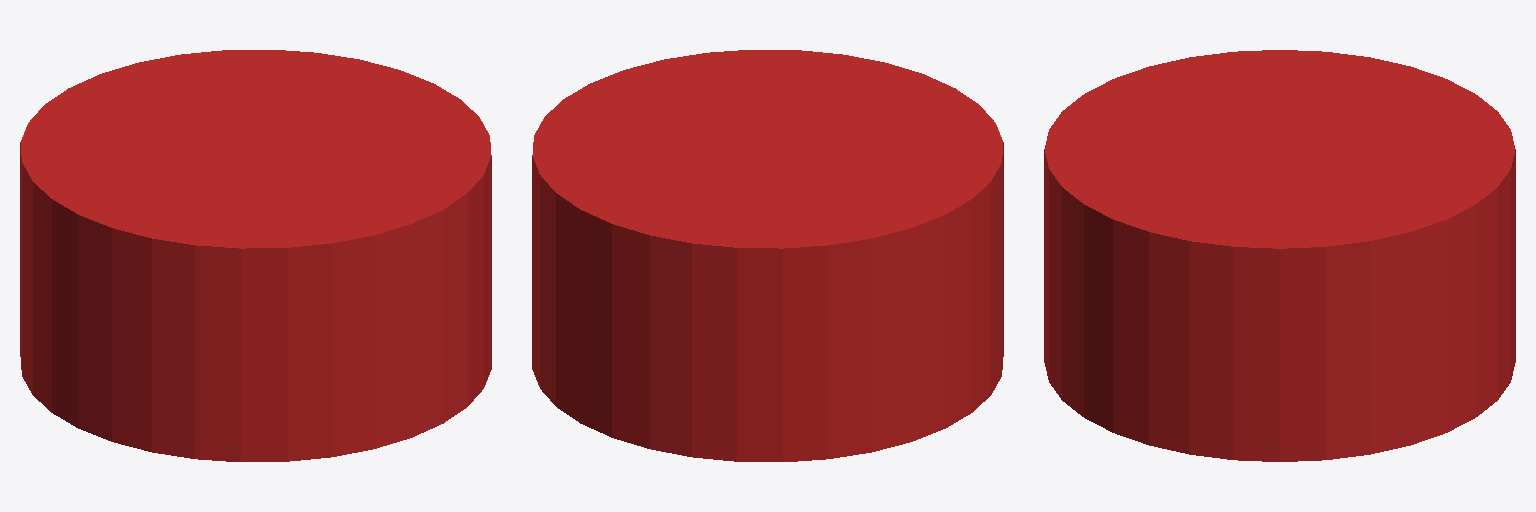
The robot description file, URDF, robot "wheel_only":
<?xml version='1.0' encoding='utf-8'?>
<robot name="wheel_only">
    <link name="wheel">
        <inertial>
            <origin xyz="0.0 1.7347249999999997e-17 -0.016" rpy="0 0 0" />
            <mass value="0.001" />
            <inertia ixx="0.0" ixy="0.0" ixz="0.0" iyy="0.0" iyz="0.0" izz="0.001" />
        </inertial>
        <visual>
            <origin xyz="-0.13 0.1 -0.08" rpy="1.5708 1.5708 0" />
            <geometry>
                <mesh filename="package://assets/wheel.stl" scale="4 4 4" />
            </geometry>
            <material name="wheel_material">
                <color rgba="0.262745 0.282353 0.301961 1.0" />
            </material>
        </visual>
        <collision>
            <origin xyz="-0.13 0.1 -0.08" rpy="1.5708 1.5708 0" />
            <geometry>
                <mesh filename="package://assets/wheel.stl" scale="4 4 4" />
            </geometry>
        </collision>
    </link>

    <link name="cylinder">
        <inertial>
            <origin xyz="0 0 0" rpy="0 0 0"/>
            <mass value="0.005"/>
            <inertia ixx="0.01" ixy="0.0" ixz="0.0" iyy="0.01" iyz="0.0" izz="0.01"/>
        </inertial>
        <visual>
            <origin xyz="0 0 0" rpy="0 0 0"/>
            <geometry>
                <cylinder radius="0.03" length="0.03"/>
            </geometry>
            <material name="cylinder_material">
                <color rgba="0.8 0.2 0.2 1.0"/>
            </material>
        </visual>
        <collision>
            <origin xyz="0 0 0" rpy="0 0 0"/>
            <geometry>
                <cylinder radius="0.03" length="0.03"/>
            </geometry>
        </collision>
    </link>

    <joint name="wheel_to_cylinder" type="fixed">
        <parent link="wheel"/>
        <child link="cylinder"/>
        <origin xyz="0 0 0.012" rpy="0 0 0"/>
    </joint>
</robot>

--- What the picture shows (computed from the rendered views, not written in the file) ---
Views: 3 orthographic renders of the robot side by side, from view 1: azimuth 30°, elevation 25°; view 2: azimuth 150°, elevation 25°; view 3: azimuth 270°, elevation 25°.
Model wheel_only with 2 links and 1 joints (1 fixed), rooted at wheel, posed all joints at 0.
Visible links, largest first — view 1: cylinder; view 2: cylinder; view 3: cylinder.
Link boxes in pixels (x1,y1,x2,y2): cylinder: (20,50,491,461); cylinder: (532,50,1003,461); cylinder: (1044,50,1515,461).
Size in the robot's own frame: 0.06 by 0.06 by 0.03 metres.
0 mesh visuals loaded from 1 distinct referenced files (none loaded); not drawn: 1 (reference not matched to a file when rendering).
